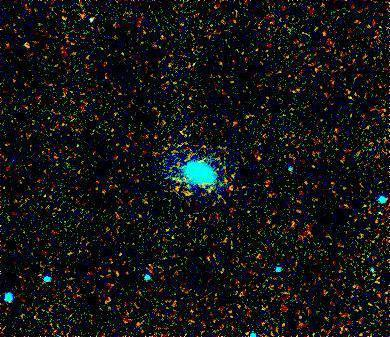star: (8, 27, 38, 57)
